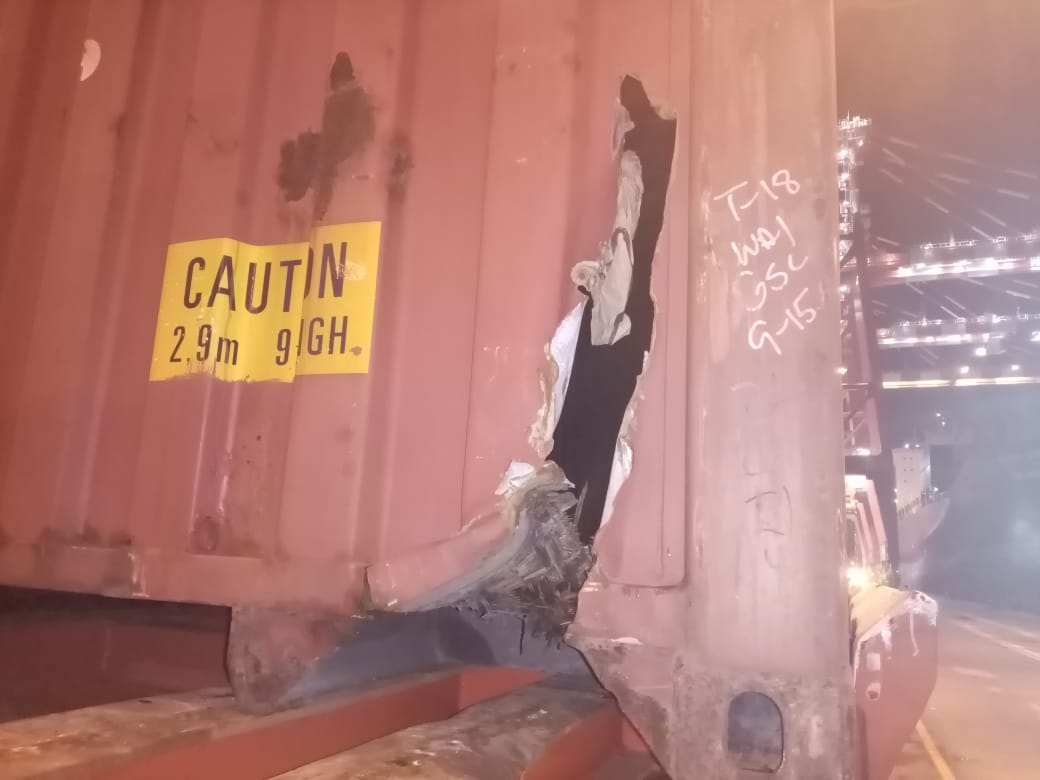front_side: (1, 1, 841, 760)
